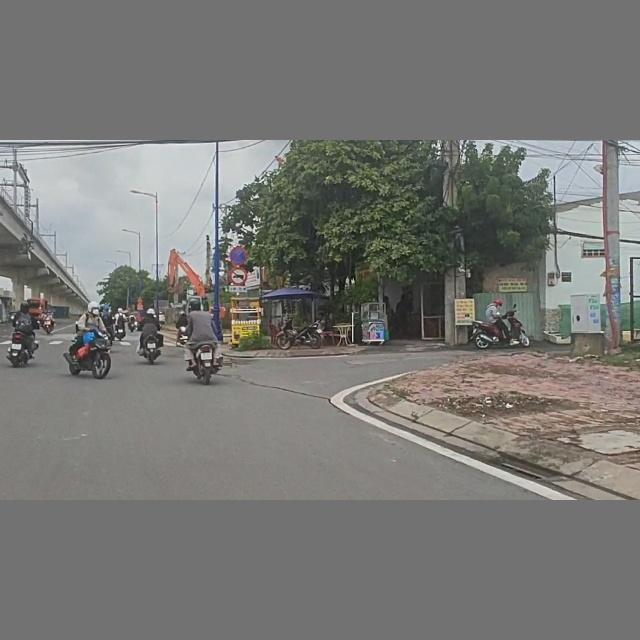B.8a: (228, 267, 249, 287)
P.130: (227, 247, 249, 265)
